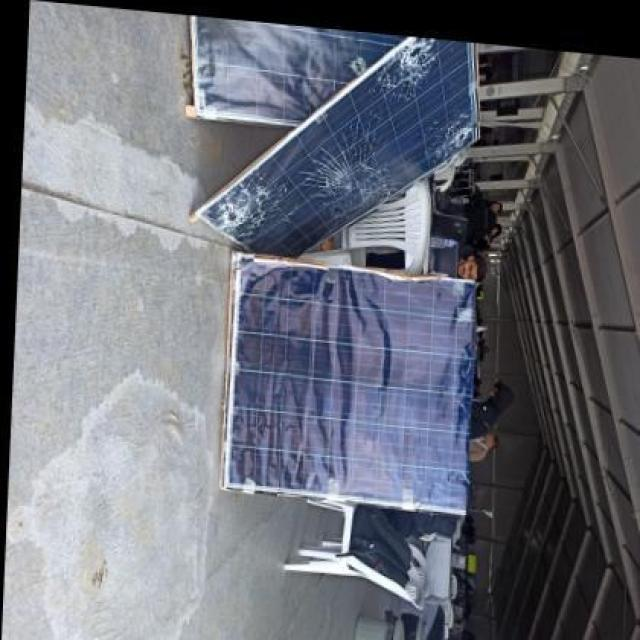cracked: (208, 38, 504, 258)
